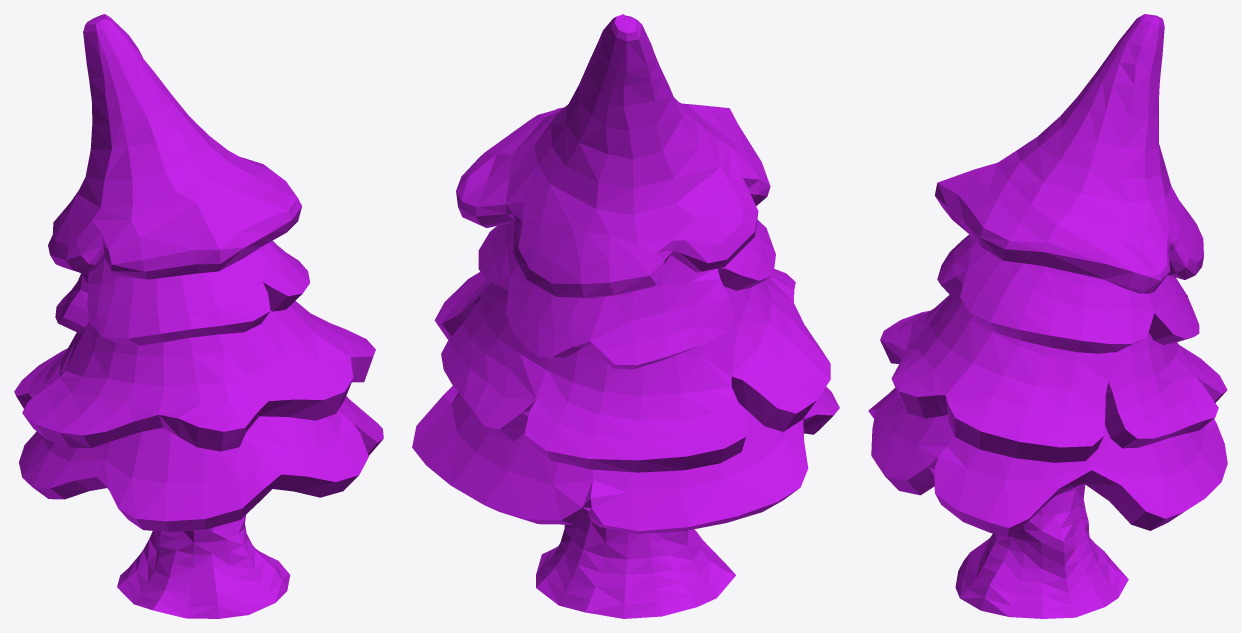
The model's file is meowverse_tree5.glb.
3 renders of one model, left to right at view 1: azimuth 30°, elevation 25°; view 2: azimuth 150°, elevation 25°; view 3: azimuth 270°, elevation 25°, orthographic. The views are drawn at different scales.
Visible parts, largest first — view 1: tree1v3.002; view 2: tree1v3.002; view 3: tree1v3.002.
Boxes of the visible parts, x1,y1,x2,y2 form: tree1v3.002: [14, 14, 383, 618]; tree1v3.002: [412, 14, 839, 618]; tree1v3.002: [868, 14, 1227, 618].
Size of the model in its own units: 0.5432 by 0.8701 by 0.5168.
